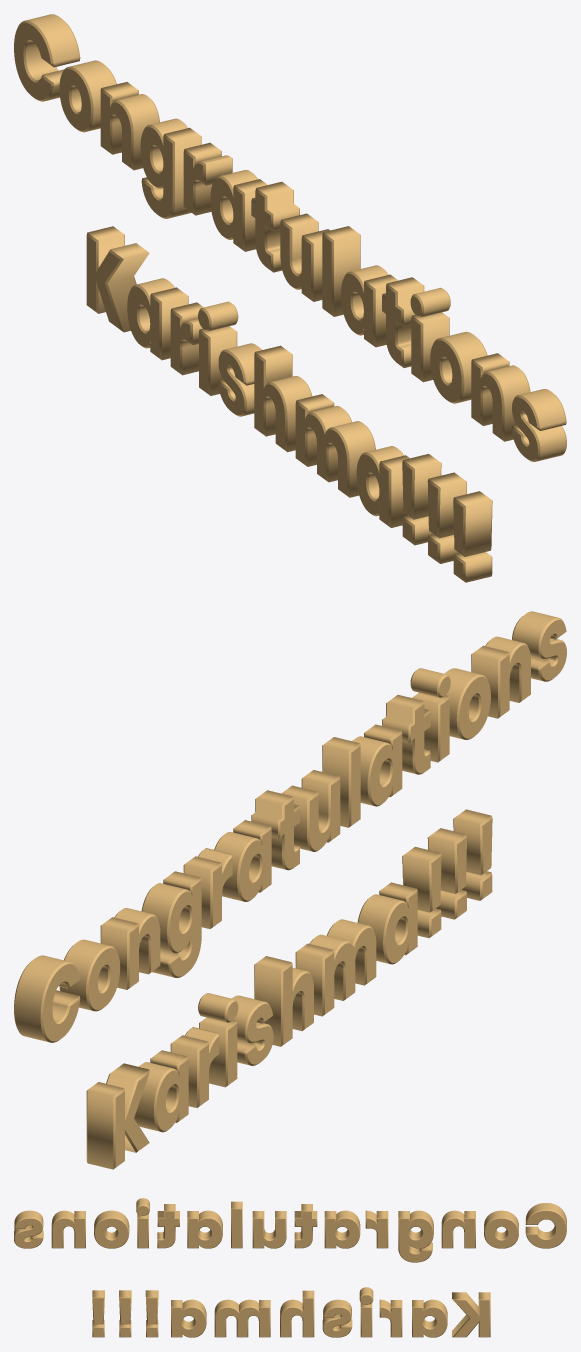
The model's file is wishes2.gltf.
3 renders of one model, top to bottom at view 1: azimuth 30°, elevation 25°; view 2: azimuth 150°, elevation 25°; view 3: azimuth 270°, elevation 25°, orthographic. The views are drawn at different scales.
Visible parts, largest first — view 1: Text.002; view 2: Text.002; view 3: Text.002.
Part boxes in pixels (left/top/right/bottom): Text.002: left=14, top=14, right=566, bottom=582; Text.002: left=14, top=611, right=566, bottom=1169; Text.002: left=14, top=1198, right=566, bottom=1337.
Bounding box in the file's own units: 0.18 × 1.49 × 5.63.
